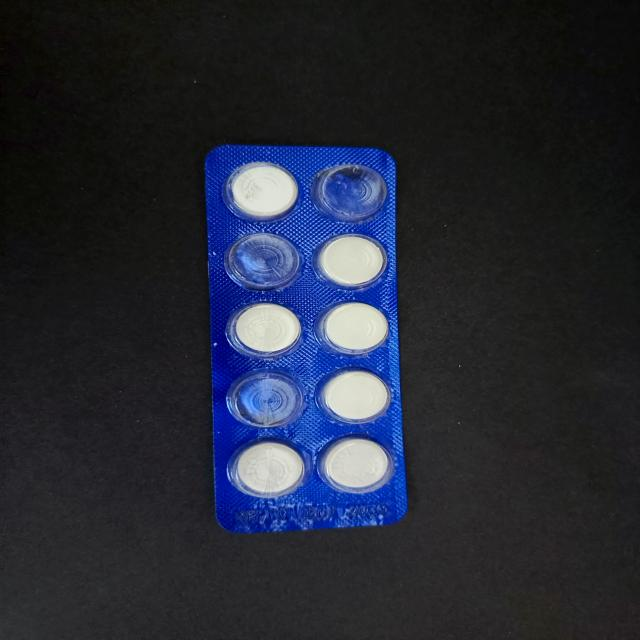defect: (223, 367, 310, 430), (221, 230, 304, 293), (308, 164, 392, 226)
